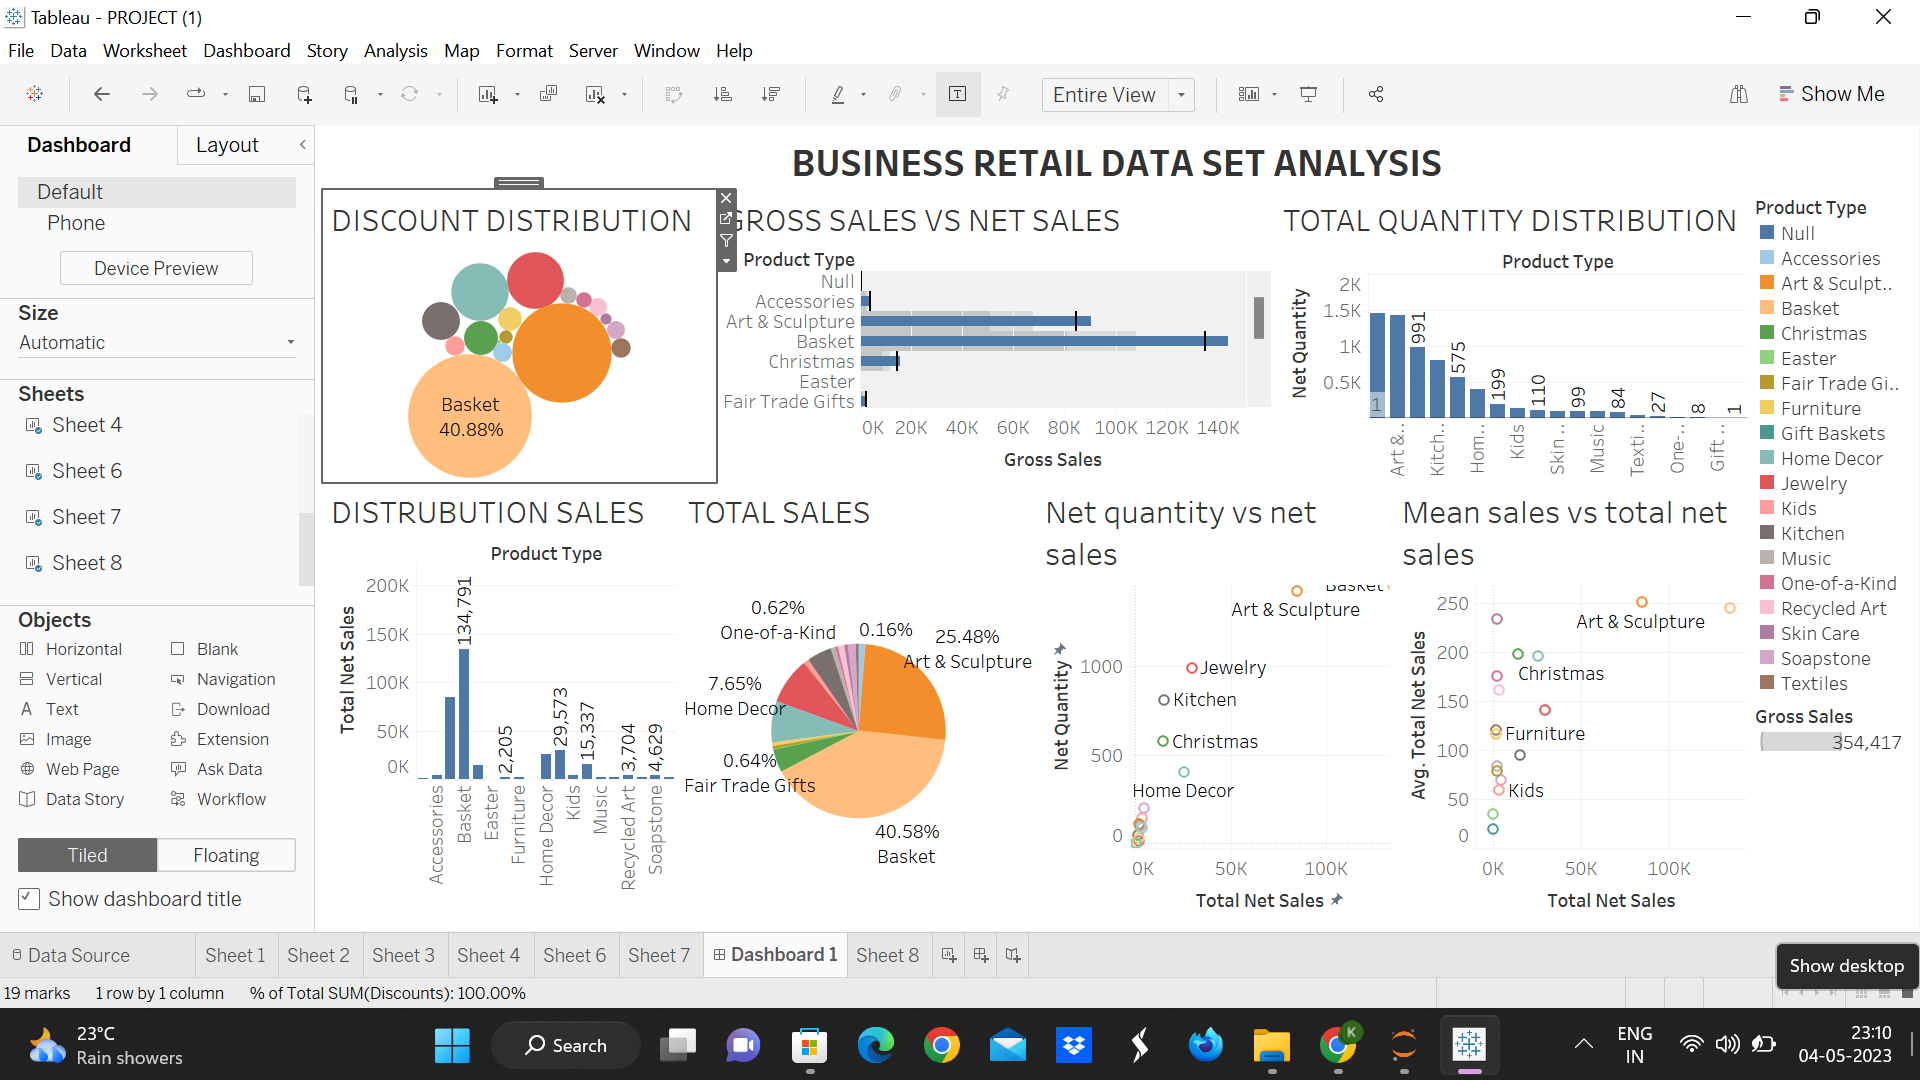

This screenshot's page, from the dashboard's own definition file:
{"tool":"tableau","page":{"name":"Dashboard 1","canvas":[1000,1000],"units":"permille","ordinal":0},"visuals":[{"type":"worksheet","title":"Sheet 1","mark":"Pie","box":[5,9.9,222.6,490.1]},{"type":"worksheet","title":"Sheet 6","mark":"Automatic","rows":["Net Quantity"],"cols":["Total Net Sales"],"box":[227.6,9.9,222.6,490.1]},{"type":"worksheet","title":"Sheet 2","mark":"Automatic","rows":["Net Quantity"],"cols":["Product Type"],"box":[450.1,9.9,445.2,490.1]},{"type":"legend","title":"Sheet 6","param":"[federated.1po8p661klwlnq1erg9ha0odjz5t].[none:Product Type:nk]","box":[895.3,9.9,99.8,600.5]},{"type":"worksheet","title":"Sheet 3","mark":"Circle","box":[5,500,445.1,490.1]},{"type":"worksheet","title":"Sheet 4","mark":"Automatic","rows":["Product Type"],"cols":["Gross Sales"],"box":[450.1,500,445.2,490.1]}]}

Visuals, with their boxes on the dashboard's canvas, which has no fixed pixel size, in thousandths of its width and height (x1, y1, x2, y2). These are canvas units, not pixel positions in the 1920x1080 screenshot, which may show the page scaled, cropped or inside an application window:
"Sheet 1" worksheet (Pie marks): 5:10:228:500
"Sheet 6" worksheet: 228:10:450:500
"Sheet 2" worksheet: 450:10:895:500
"Sheet 6" legend: 895:10:995:610
"Sheet 3" worksheet (Circle marks): 5:500:450:990
"Sheet 4" worksheet: 450:500:895:990
